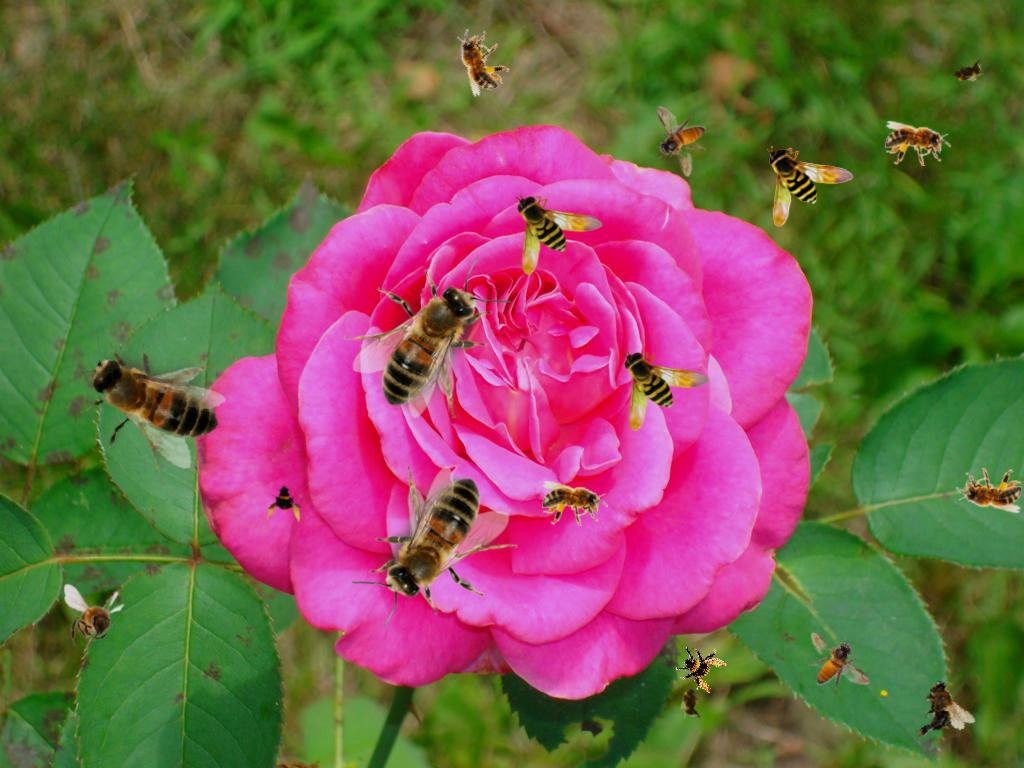Bee: (51, 304, 240, 498), (344, 256, 511, 418), (351, 466, 518, 628), (766, 145, 854, 227), (622, 349, 710, 431), (515, 193, 603, 275), (795, 618, 873, 705), (444, 19, 516, 100), (902, 673, 977, 743), (64, 584, 125, 654), (671, 637, 731, 697), (656, 106, 706, 177), (956, 468, 1022, 513), (542, 481, 608, 526), (885, 121, 951, 166), (264, 480, 308, 524), (944, 56, 990, 88), (680, 682, 702, 722)
